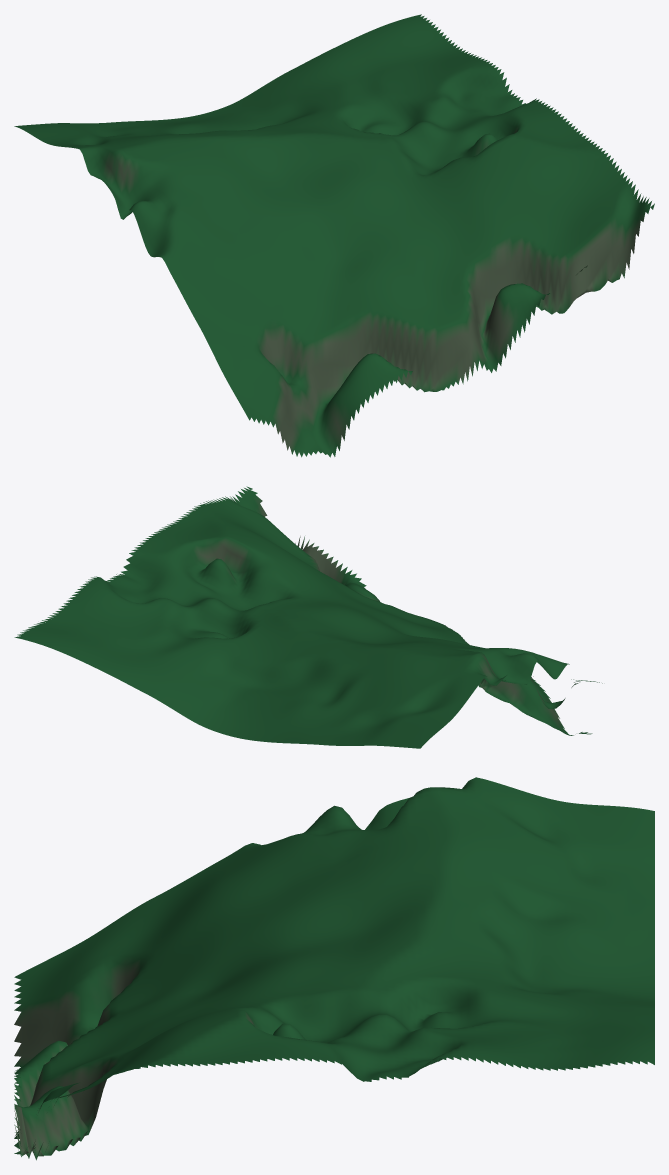
The model's file is payo_land_xm1_ym2.glb.
The picture shows the model from 3 angles, top to bottom: view 1: azimuth 30°, elevation 25°; view 2: azimuth 150°, elevation 25°; view 3: azimuth 270°, elevation 25°; orthographic projection. The views are drawn at different scales.
Parts seen in each view (by area): view 1: payo_land_xm1_ym2; view 2: payo_land_xm1_ym2; view 3: payo_land_xm1_ym2.
Boxes of the visible parts, x1,y1,x2,y2 form: payo_land_xm1_ym2: (14, 14, 654, 457); payo_land_xm1_ym2: (14, 486, 602, 748); payo_land_xm1_ym2: (14, 777, 654, 1160).
Size of the model in its own units: 258 by 126 by 258.
